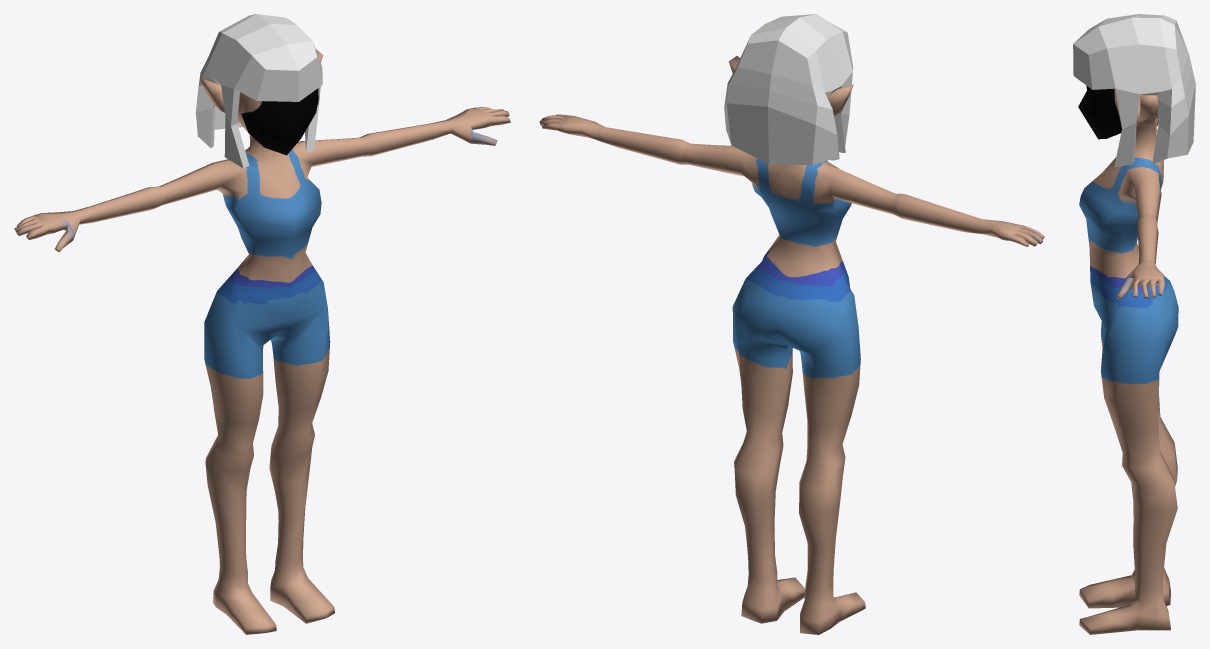
The model's file is lowpolybody777_1.fbx.
The picture shows the model from 3 angles, left to right: view 1: azimuth 30°, elevation 25°; view 2: azimuth 150°, elevation 25°; view 3: azimuth 270°, elevation 25°; orthographic projection.
Visible parts, largest first — view 1: Cylinder.001, Cylinder.002; view 2: Cylinder.001, Cylinder.002; view 3: Cylinder.001, Cylinder.002.
Part boxes in pixels (bbox=[...]): Cylinder.001: bbox=[14, 49, 510, 634]; Cylinder.002: bbox=[195, 14, 322, 168]; Cylinder.001: bbox=[539, 56, 1044, 634]; Cylinder.002: bbox=[724, 14, 853, 164]; Cylinder.001: bbox=[1078, 85, 1178, 634]; Cylinder.002: bbox=[1073, 14, 1195, 167].
Bounding box in the file's own units: 689 × 787 × 147.
Materials: 2 (2 with a texture image).
